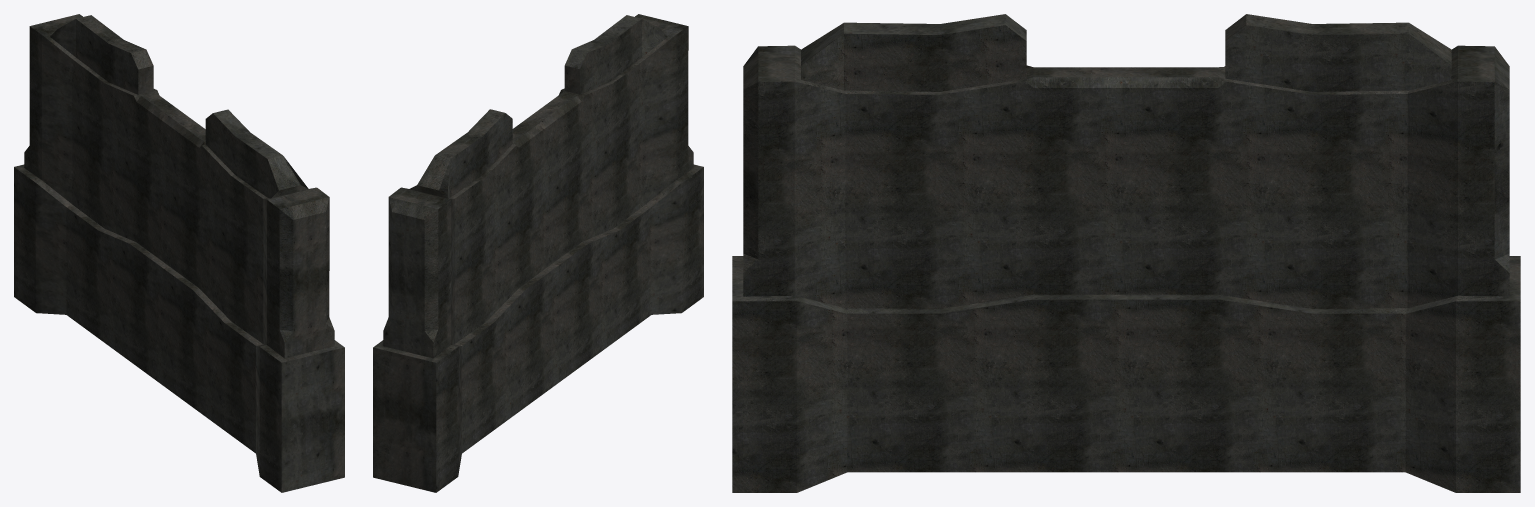
Rendered from barrier_large01.obj.
The picture shows the model from 3 angles, left to right: view 1: azimuth 30°, elevation 25°; view 2: azimuth 150°, elevation 25°; view 3: azimuth 270°, elevation 25°; orthographic projection. The views are drawn at different scales.
Parts seen in each view (by area): view 1: Cube; view 2: Cube; view 3: Cube.
Boxes of the visible parts, x1,y1,x2,y2 form: Cube: [14, 14, 344, 492]; Cube: [373, 14, 703, 492]; Cube: [732, 14, 1520, 492].
Size of the model in its own units: 4.84 by 22.44 by 35.57.
1 material, 1 textured.
